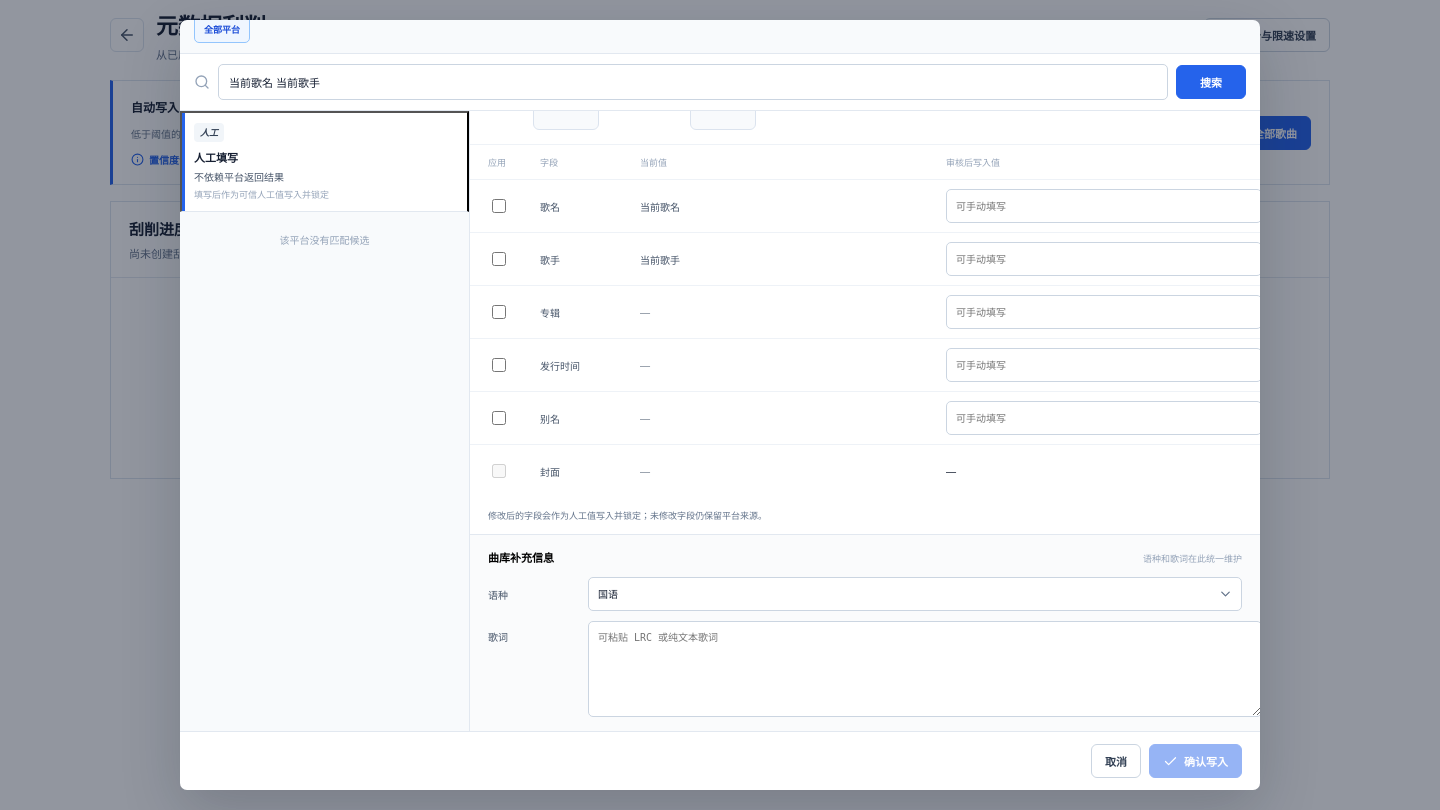
MetadataScrapeView › allows standalone manual local edits when the provider returns no match list
This screenshot has width=1440, height=810.
(page scrolled)
Expected: the button "确认写入" is disabled, [1149,744,1242,778]
Select "粤语" in the dropdown labelled "语种": x=915, y=594 [588,577,1242,611]
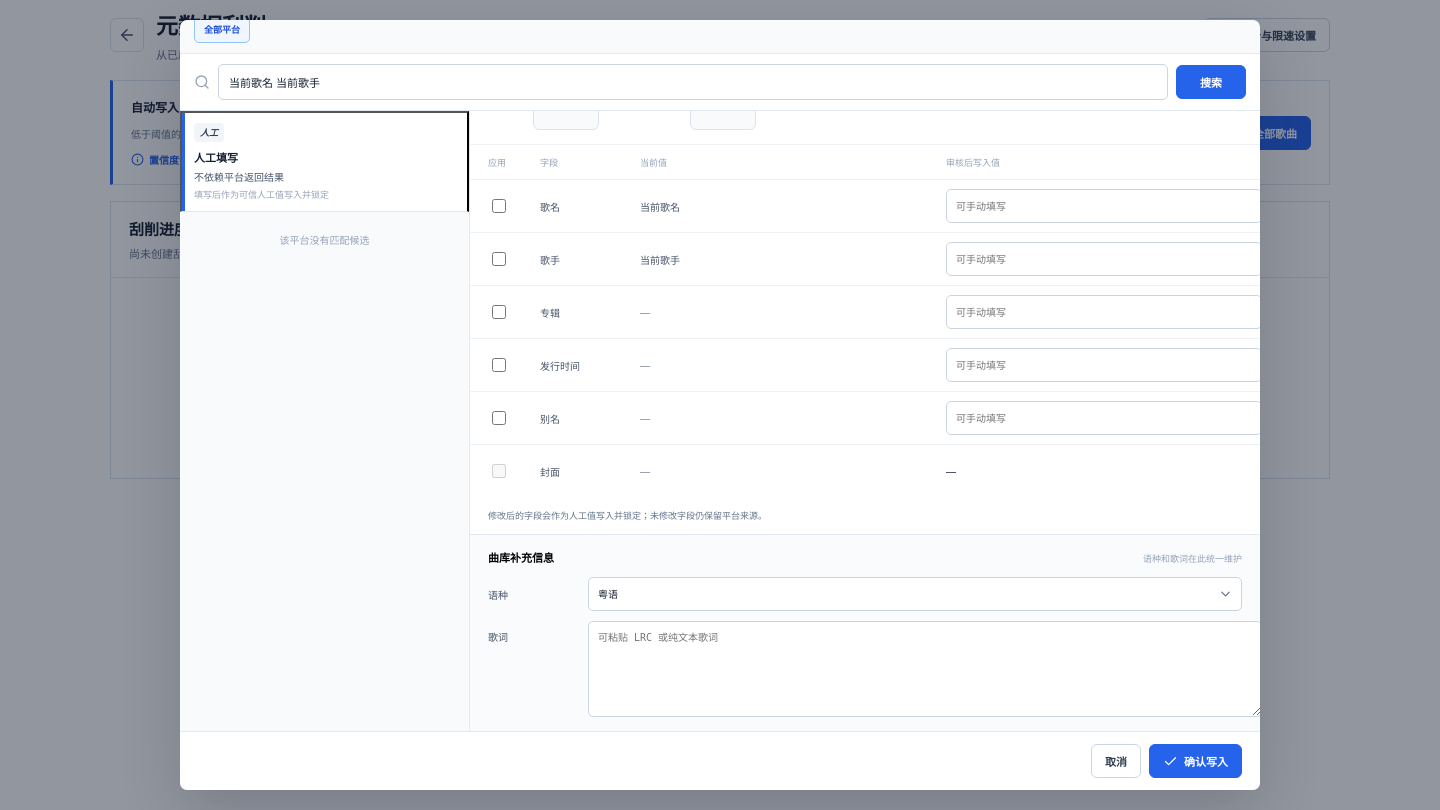
Click the button "确认写入": x=1196, y=761 [1149,744,1242,778]
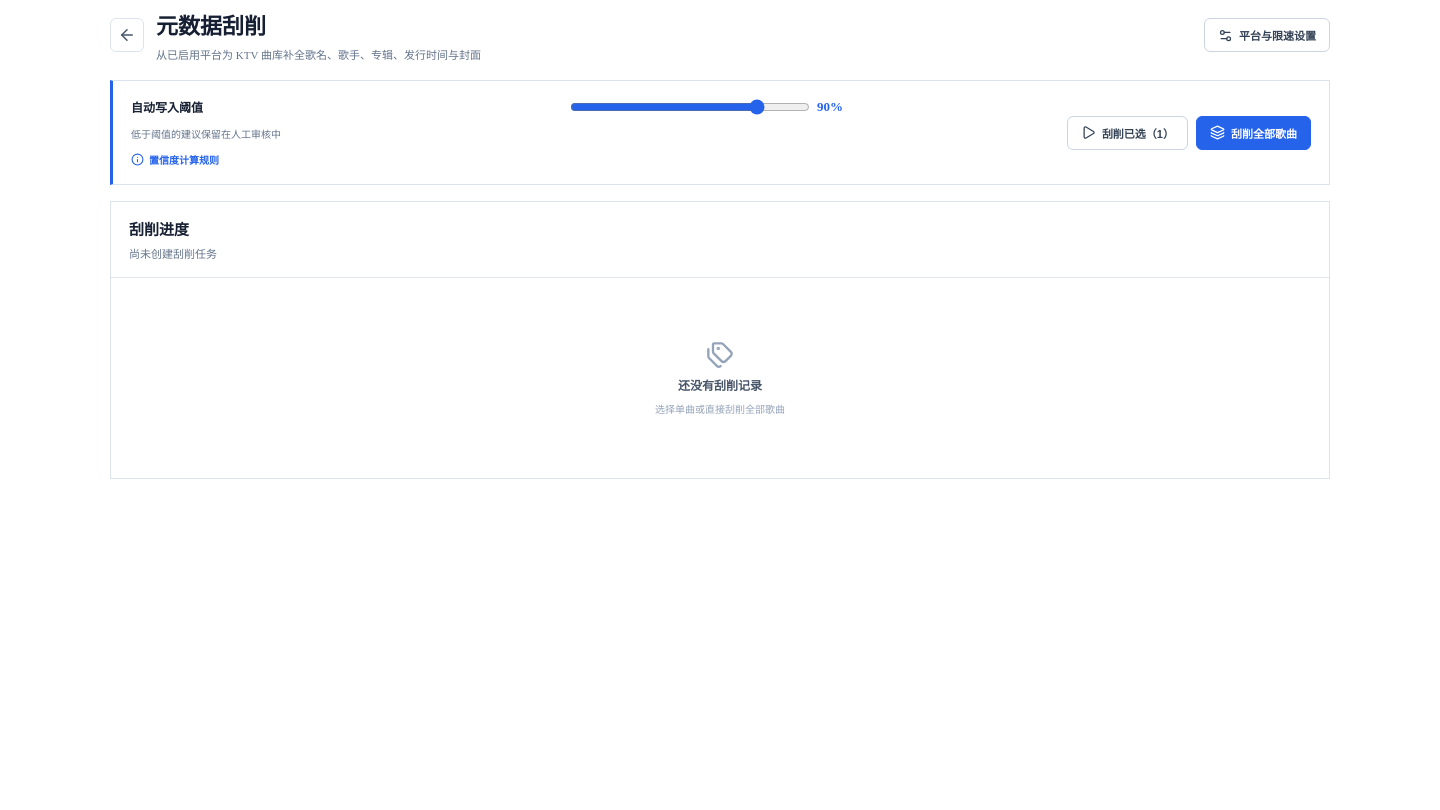
Now the element with class "review-modal" is gone
